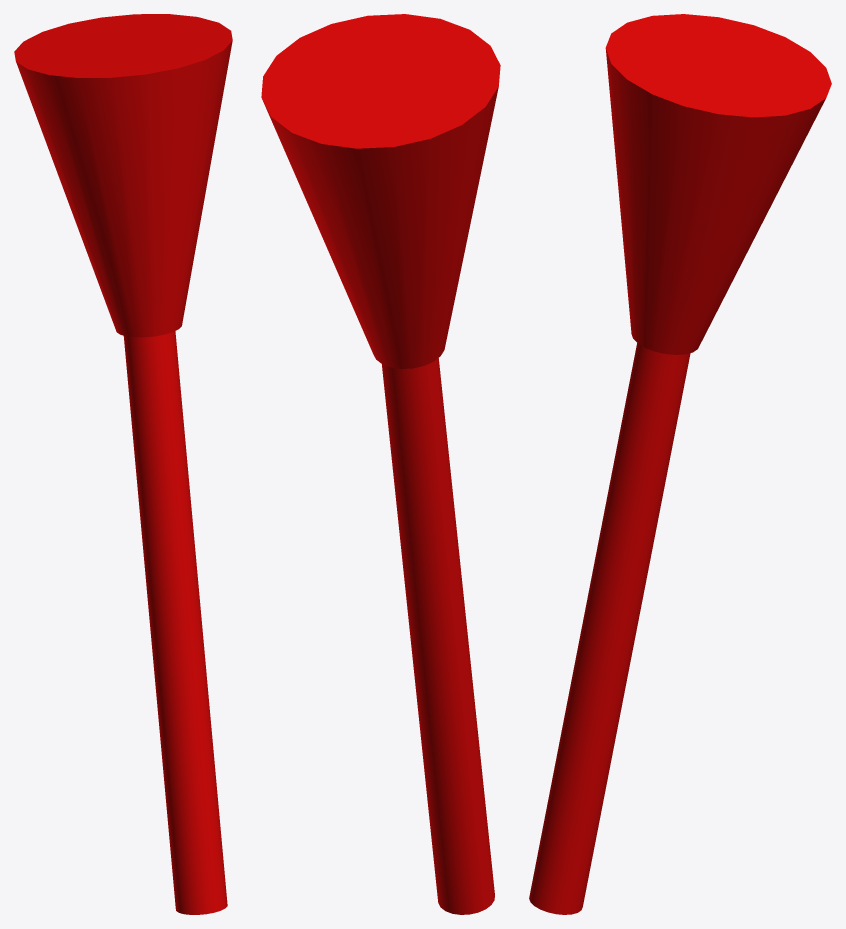
The model's file is Light02Collider.fbx.
3 renders of one model, left to right at view 1: azimuth 30°, elevation 25°; view 2: azimuth 150°, elevation 25°; view 3: azimuth 270°, elevation 25°, orthographic. The views are drawn at different scales.
Visible parts, largest first — view 1: Light02Collision; view 2: Light02Collision; view 3: Light02Collision.
Part boxes in pixels (left/top/right/bottom): Light02Collision: left=14, top=14, right=232, bottom=914; Light02Collision: left=261, top=14, right=500, bottom=914; Light02Collision: left=529, top=14, right=831, bottom=914.
Bounding box in the file's own units: 14.39 × 59.39 × 18.97.
